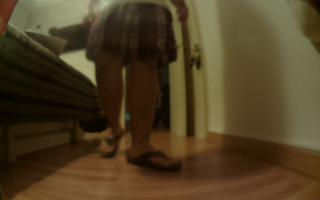person: (79, 1, 190, 174)
